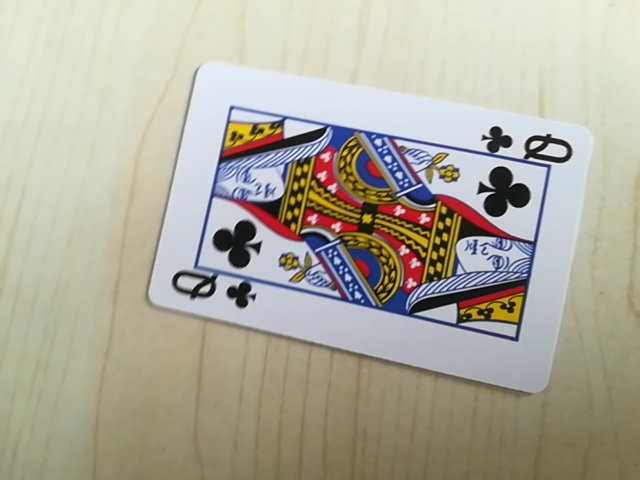mh q: (166, 270, 262, 312), (481, 124, 577, 166)
